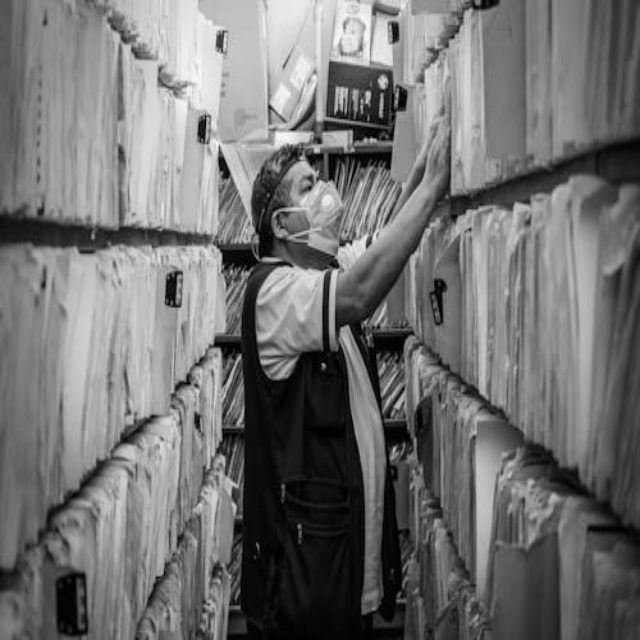Mascara: (284, 179, 343, 250)
Sin_gafas: (280, 163, 320, 208)
